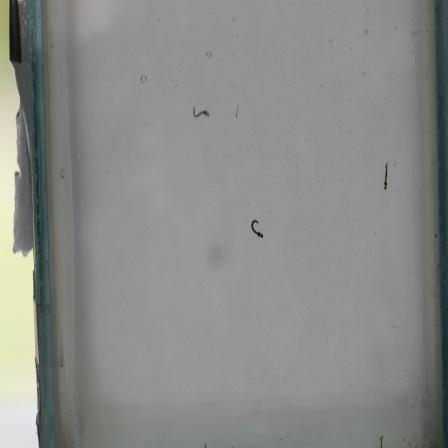Jentik-Nyamuk: (247, 215, 266, 241), (189, 103, 212, 123), (380, 159, 391, 193)
